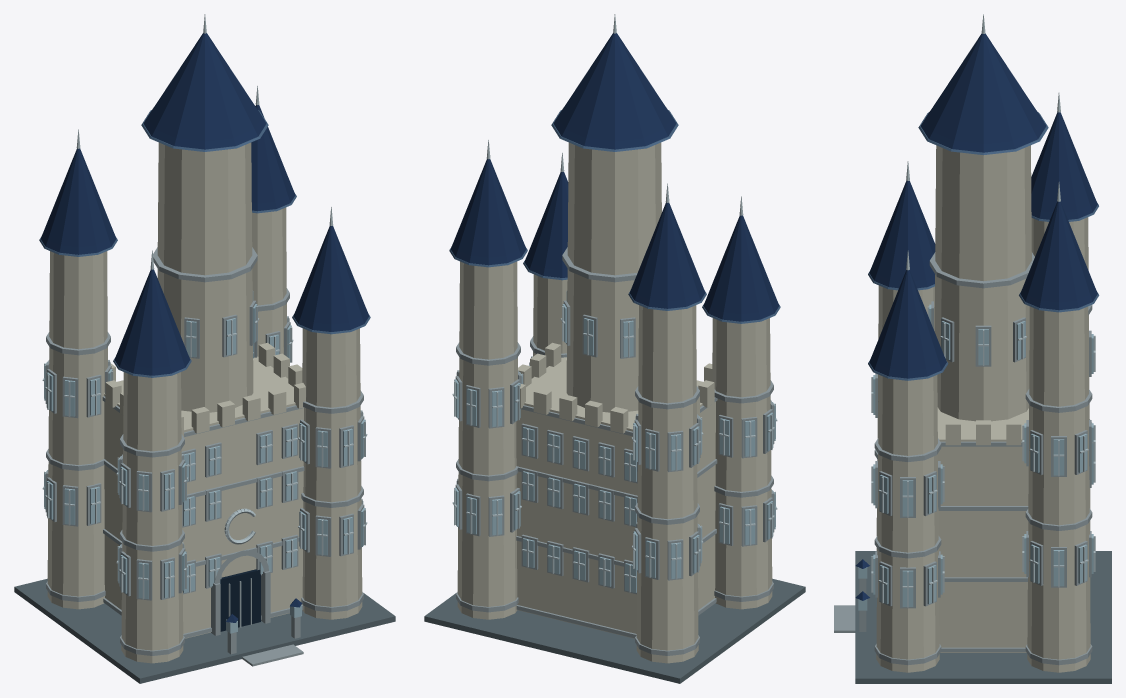
The model's file is shadow.glb.
3 renders of one model, left to right at view 1: azimuth 30°, elevation 25°; view 2: azimuth 150°, elevation 25°; view 3: azimuth 270°, elevation 25°, orthographic. The views are drawn at different scales.
Visible parts, largest first — view 1: Dream_Mooncastle_Keep_Towers_Arches; view 2: Dream_Mooncastle_Keep_Towers_Arches; view 3: Dream_Mooncastle_Keep_Towers_Arches.
Part boxes in pixels (bbox=[...]): Dream_Mooncastle_Keep_Towers_Arches: bbox=[14, 14, 395, 683]; Dream_Mooncastle_Keep_Towers_Arches: bbox=[424, 14, 805, 683]; Dream_Mooncastle_Keep_Towers_Arches: bbox=[834, 14, 1111, 683].
Size of the model in its own units: 20 by 44.3 by 18.4.
